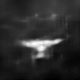plane: (16, 37, 66, 62)
